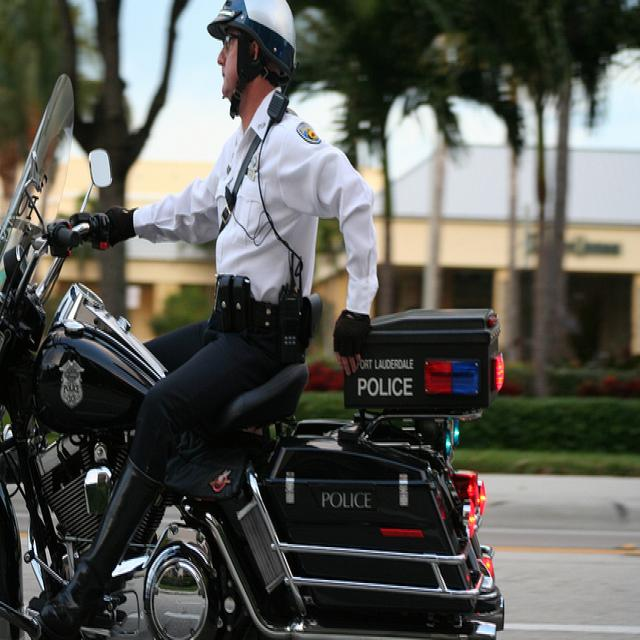motor: (0, 82, 506, 633)
